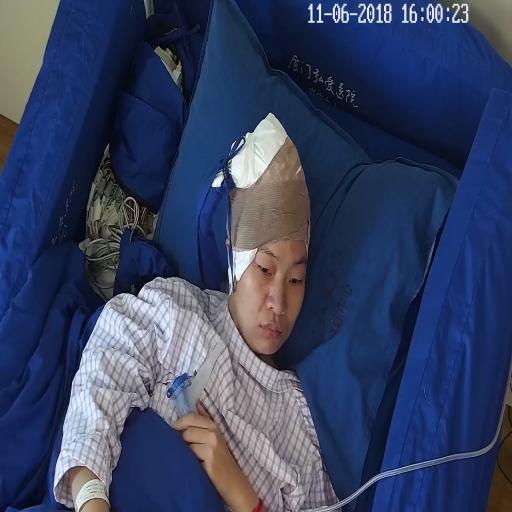Seizure: (216, 226, 311, 386)
